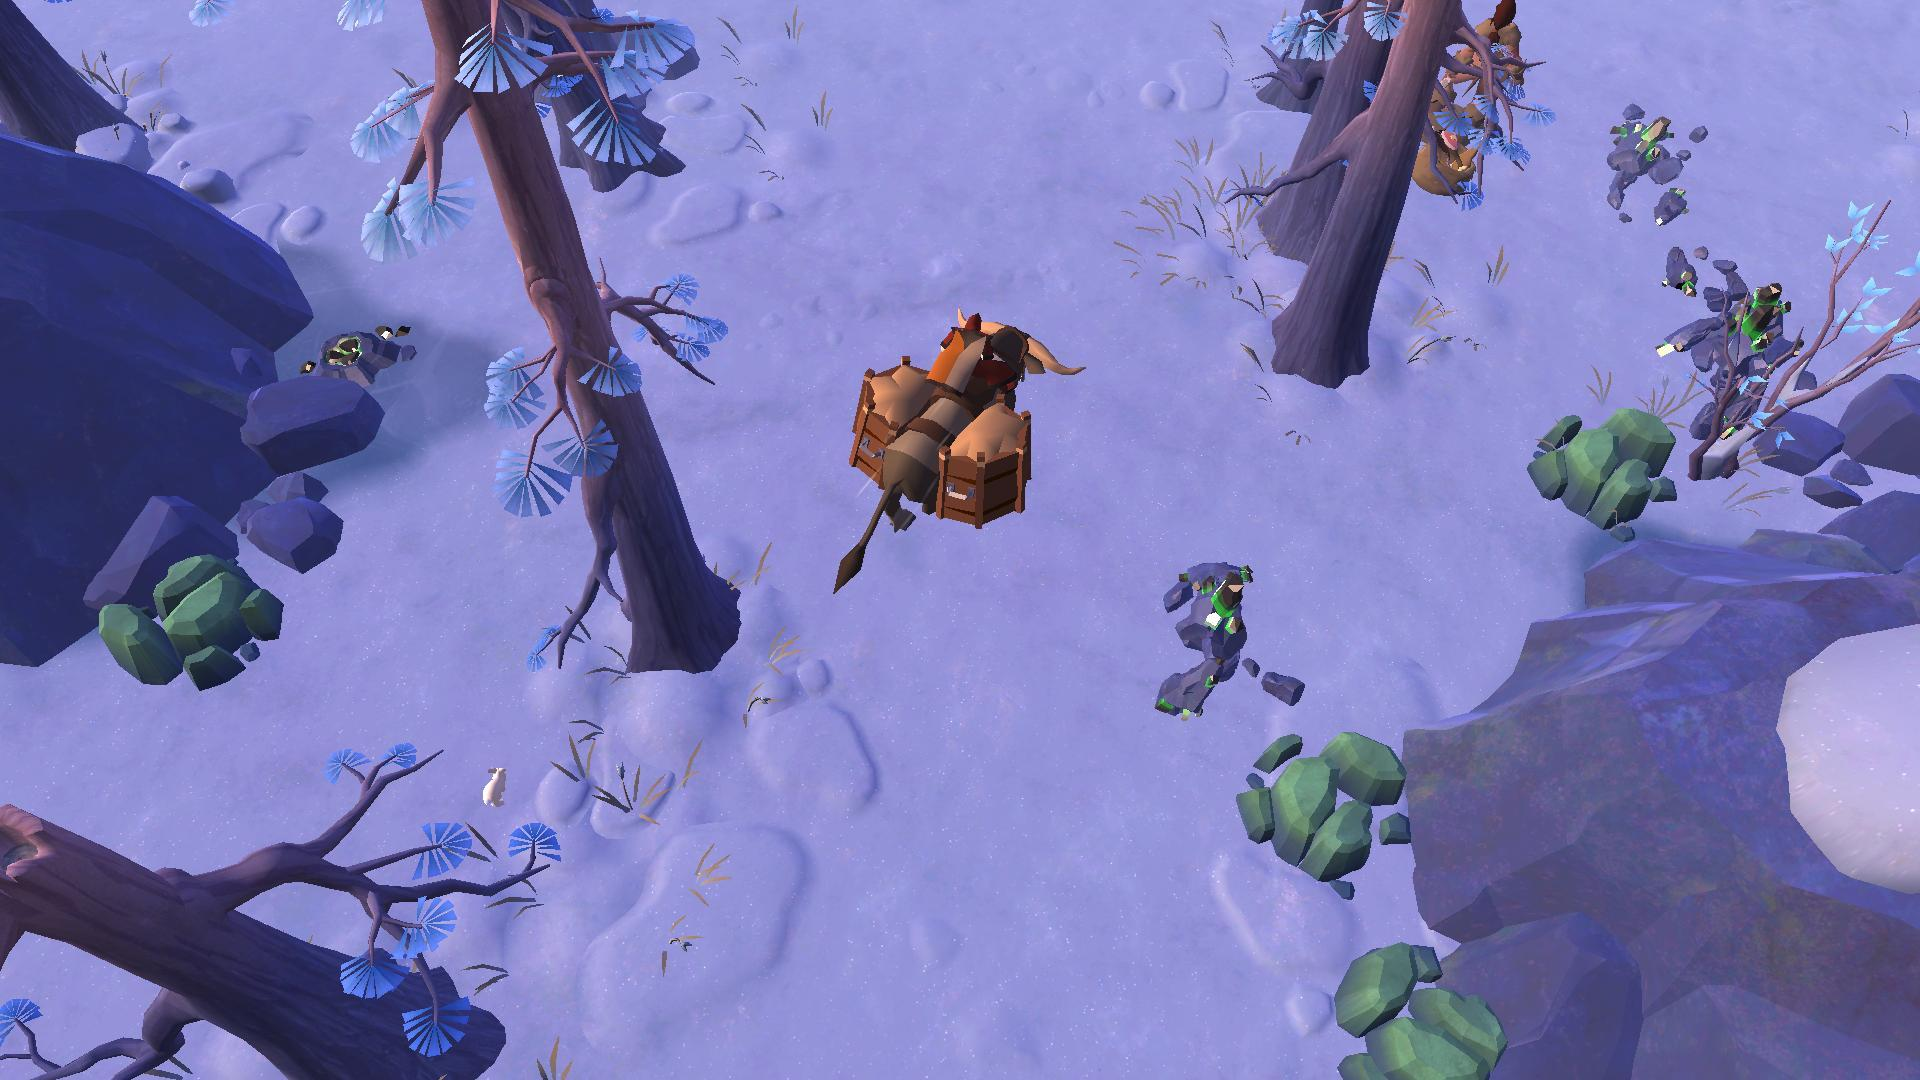rock_t3: (1217, 721, 1416, 880), (1308, 943, 1513, 1080), (94, 547, 282, 690), (1518, 398, 1681, 530)
